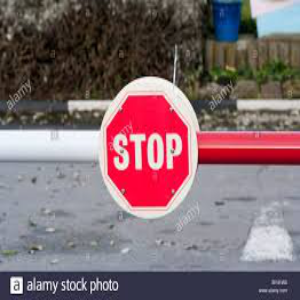STOP_SIGN: (103, 90, 192, 211)
